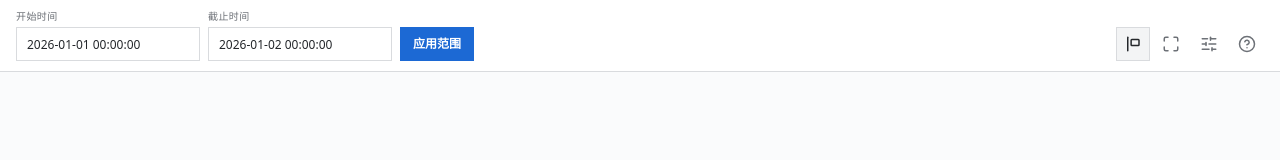
it: TimeRangeControls › shows the error in the field's label row and restores the label on edit
The width and height of the screenshot is (1280, 160).
Clear the field labelled "开始时间" at (108, 44), box [17,28,199,60]
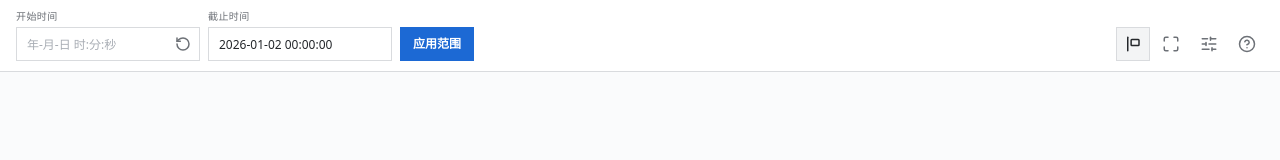
Click the button "应用范围" at (437, 44), box [400,27,474,61]
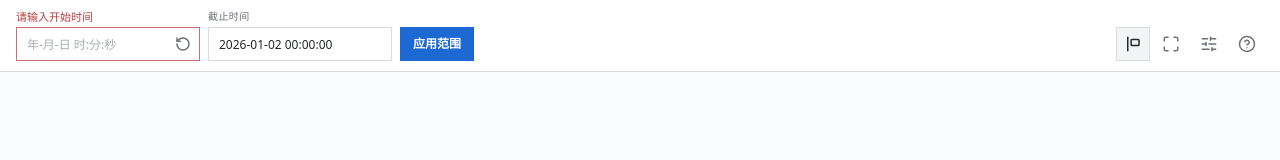
Now the message reads "请输入开始时间", box [16,8,93,24]
Type "2026-01-01 00:00:00" into the field named "开始时间" at (93, 44), box [17,28,169,60]
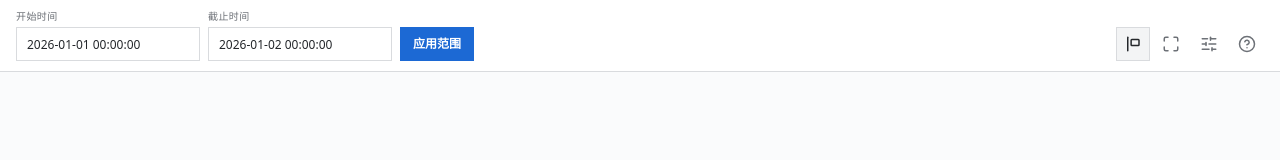
Now the message "请输入开始时间" is gone
